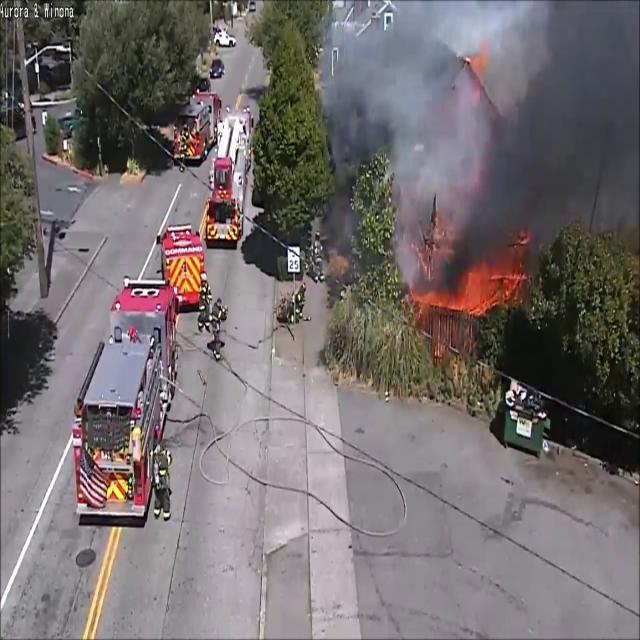Fire: (432, 254, 530, 320)
Smoke: (314, 1, 640, 262)
